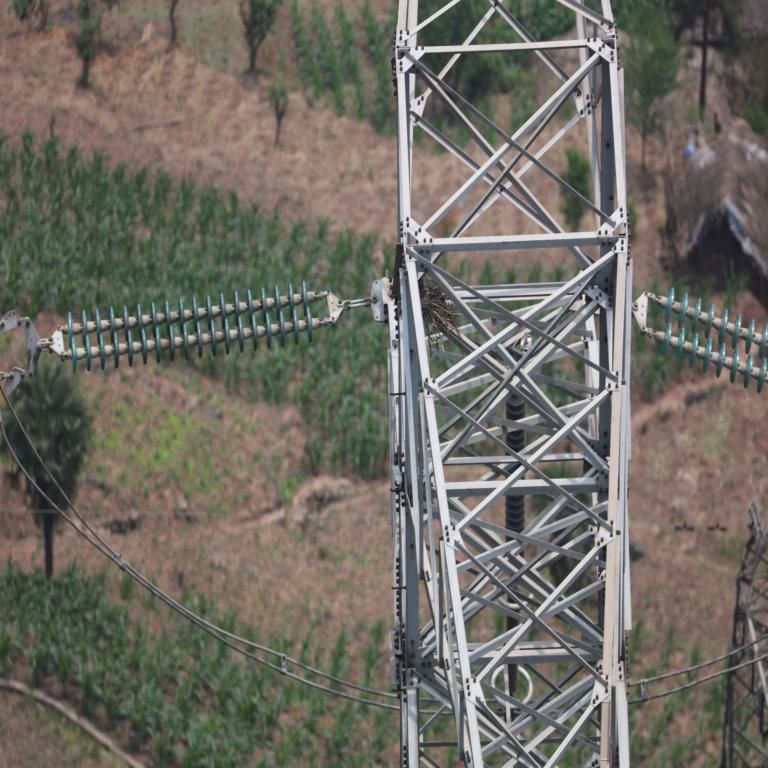nest: (394, 265, 451, 332)
